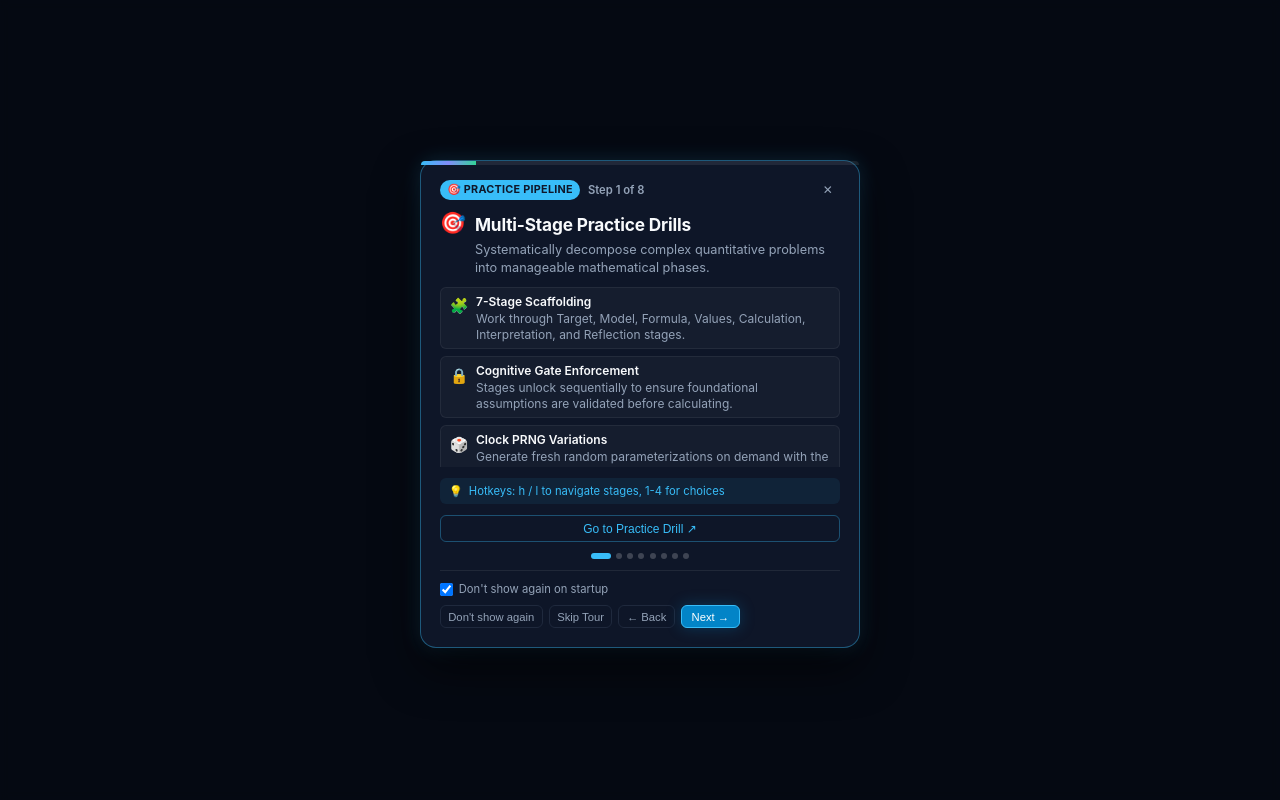
Test: ProductTourModal Component › allows clicking step pip dots to jump directly to any step
The width and height of the screenshot is (1280, 800).
Note: Jump to step 4 (Mastery)
Click the button named "Jump to tour step 4" at (641, 556), box top-left (638, 553), bottom-right (644, 559)
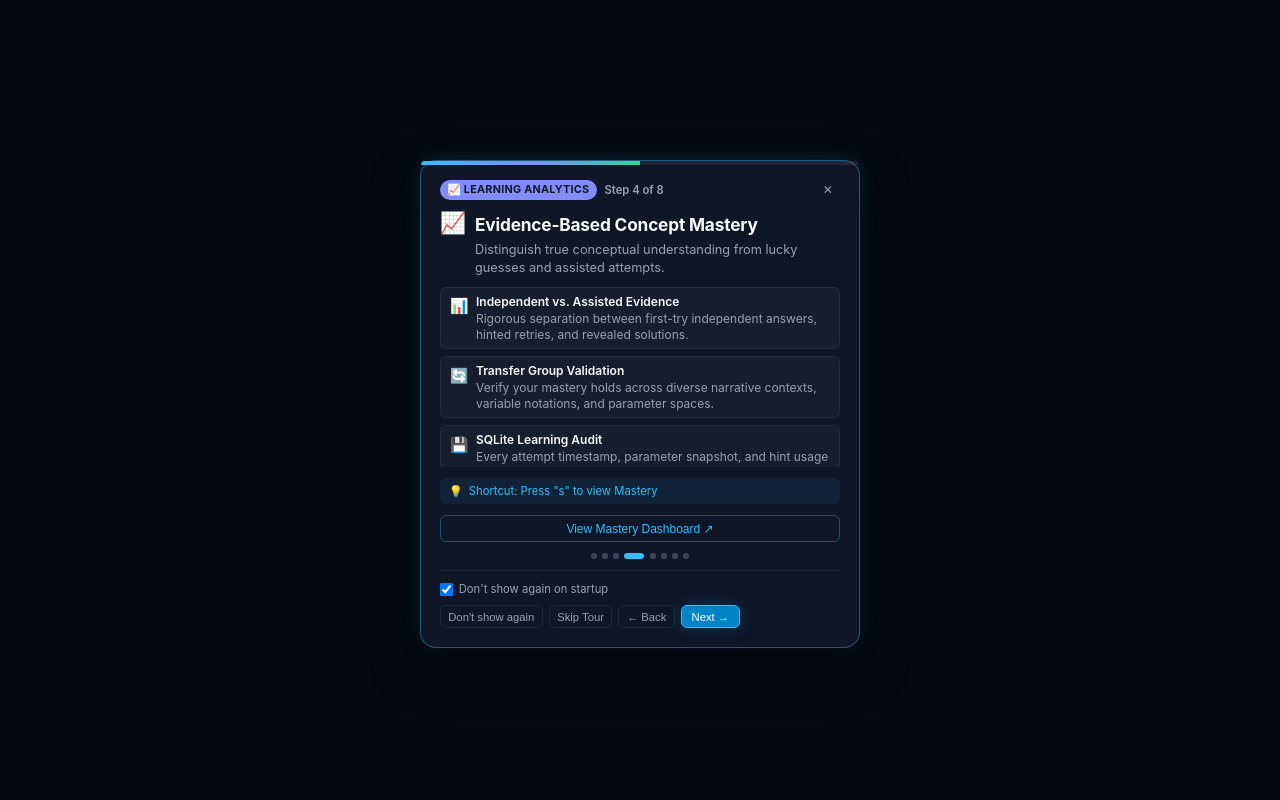
Check: the heading "Evidence-Based Concept Mastery" is shown, box top-left (475, 214), bottom-right (758, 235)
Check: the text "Step 4 of 8" is shown, box top-left (604, 182), bottom-right (664, 199)
Check: the text "Independent vs. Assisted Evidence" is shown, box top-left (476, 294), bottom-right (679, 309)
Note: Jump to step 5 (Reference Library)
Click the button named "Jump to tour step 5" at (653, 556), box top-left (650, 553), bottom-right (656, 559)
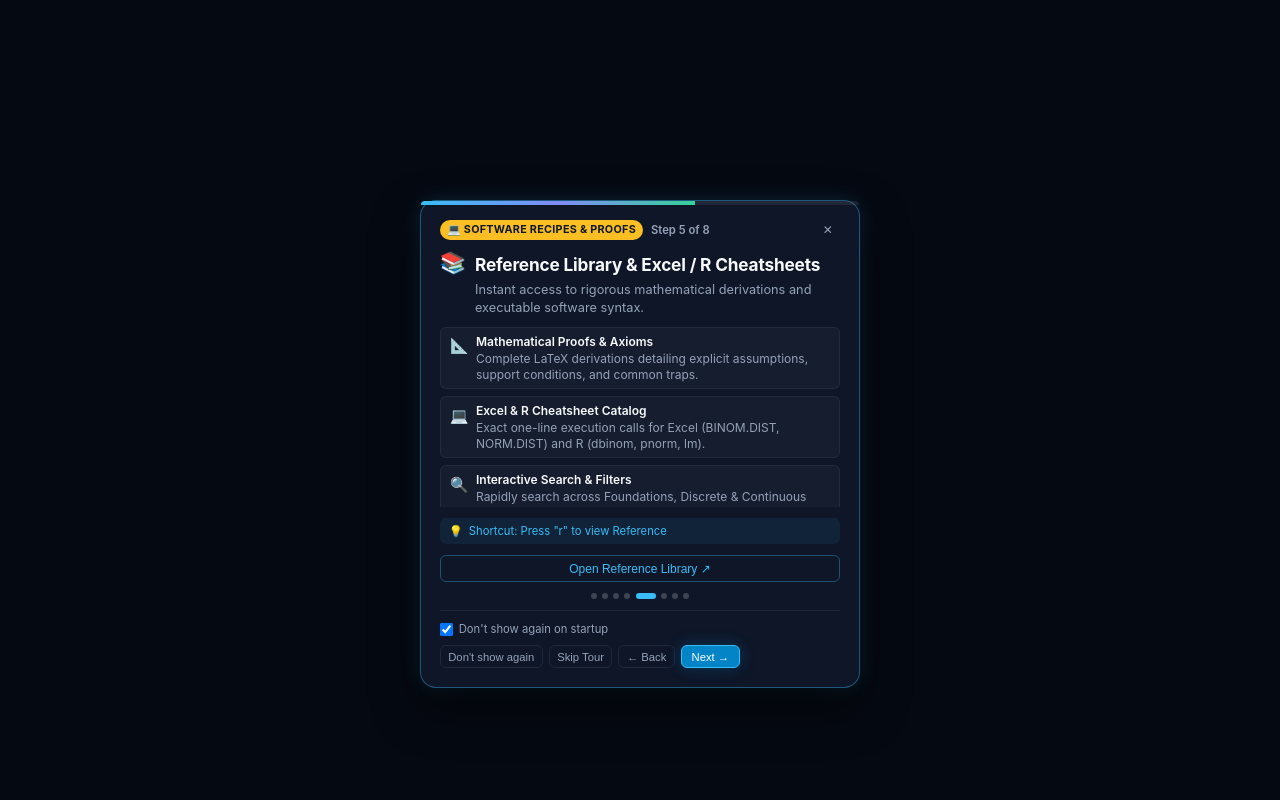
Check: the heading "Reference Library & Excel / R Cheatsheets" is shown, box top-left (475, 252), bottom-right (840, 278)
Check: the text "Step 5 of 8" is shown, box top-left (651, 222), bottom-right (710, 239)
Check: the text "Excel & R Cheatsheet Catalog" is shown, box top-left (476, 403), bottom-right (647, 418)
